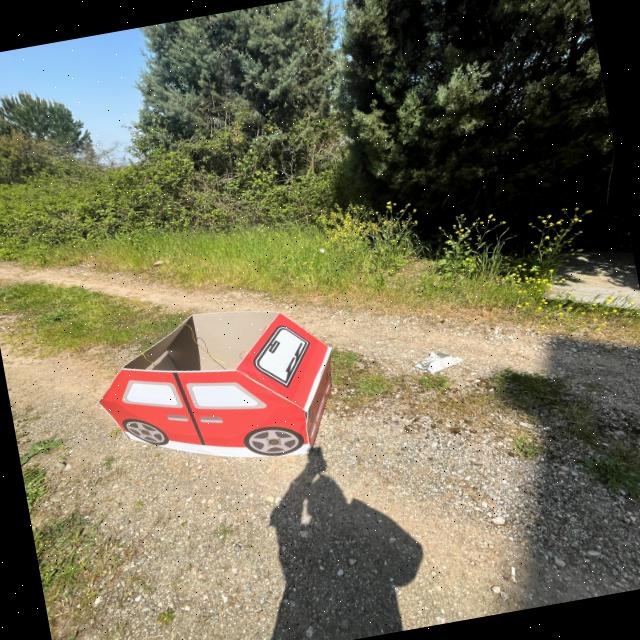red_car: (70, 279, 388, 501)
